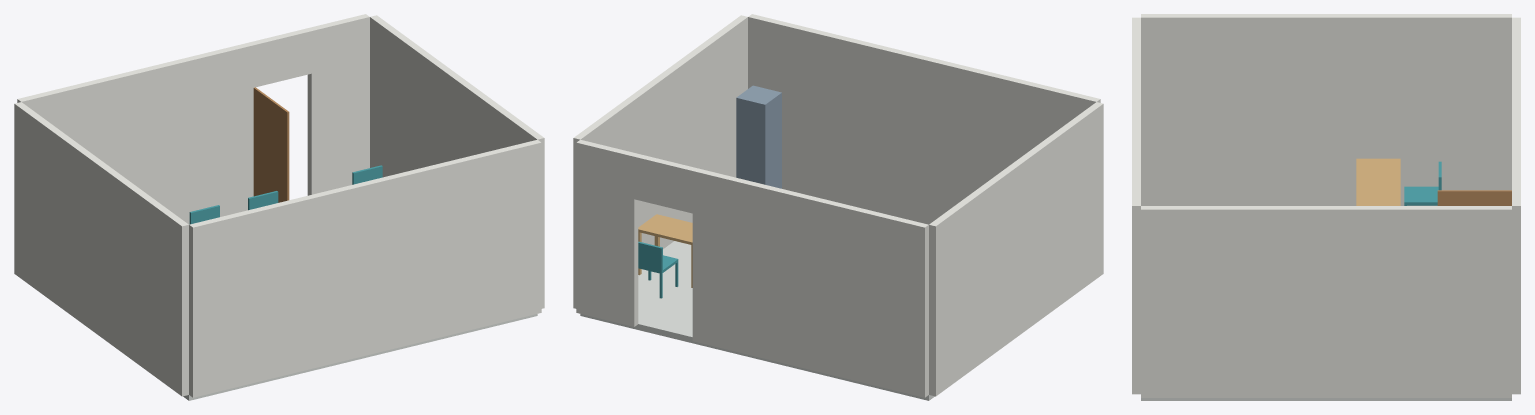
3 renders of one model, left to right at view 1: azimuth 30°, elevation 25°; view 2: azimuth 150°, elevation 25°; view 3: azimuth 270°, elevation 25°, orthographic. The views are drawn at different scales.
Parts seen in each view (by area): view 1: room:north:full, room:west:full, room:south:low, room:east:full, room:south:high, door:leaf, room:south:lintel, room:floor; view 2: room:north:full, room:south:low, room:west:full, room:east:full, room:south:high, room:floor, obstacle:corner-cabinet, room:south:lintel, seat-5:table:top, seat-5:chair:back; view 3: room:east:full, room:west:full, room:north:full, room:south:high, seat-1:table:top, door:leaf, room:south:low, room:floor, seat-2:table:top, seat-1:chair:seat.
Part boxes in pixels (x1,y1,x2,y2): room:north:full: [189, 139, 541, 397]; room:west:full: [14, 102, 188, 396]; room:south:low: [17, 42, 253, 224]; room:east:full: [370, 15, 544, 308]; room:south:high: [307, 14, 369, 195]; door:leaf: [253, 87, 289, 202]; room:south:lintel: [250, 28, 311, 87]; room:floor: [183, 314, 537, 400]; room:north:full: [748, 14, 1100, 224]; room:south:low: [692, 168, 928, 397]; room:west:full: [929, 102, 1103, 396]; room:east:full: [573, 15, 747, 308]; room:south:high: [576, 139, 638, 326]; room:floor: [580, 241, 934, 400]; obstacle:corner-cabinet: [736, 85, 781, 188]; room:south:lintel: [634, 154, 695, 213]; seat-5:table:top: [638, 214, 692, 245]; seat-5:chair:back: [638, 241, 662, 270]; room:east:full: [1141, 206, 1511, 397]; room:west:full: [1141, 14, 1511, 205]; room:north:full: [1132, 17, 1140, 394]; room:south:high: [1512, 174, 1520, 394]; seat-1:table:top: [1356, 158, 1400, 189]; door:leaf: [1437, 190, 1511, 205]; room:south:low: [1512, 17, 1520, 143]; room:floor: [1141, 398, 1511, 400]; seat-2:table:top: [1356, 190, 1400, 205]; seat-1:chair:seat: [1404, 186, 1438, 205].
Size of the model in its own units: 6.24 by 2.9 by 5.24.
